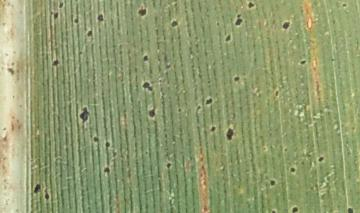tarspot: (77, 105, 93, 126), (223, 126, 237, 141), (146, 107, 159, 120), (140, 81, 155, 92), (32, 181, 43, 194), (202, 96, 216, 106), (244, 1, 258, 11), (286, 165, 300, 175), (233, 18, 245, 29), (42, 192, 53, 203), (281, 20, 292, 31), (137, 7, 149, 17), (223, 32, 233, 44), (169, 19, 181, 29), (102, 165, 112, 176), (51, 11, 61, 22), (50, 58, 62, 67), (85, 27, 94, 39), (289, 205, 302, 213), (268, 179, 278, 189), (91, 135, 101, 144), (96, 13, 105, 23), (344, 206, 356, 213), (142, 54, 151, 63), (165, 161, 174, 170), (317, 155, 326, 164), (208, 124, 217, 133), (103, 141, 113, 149), (56, 1, 66, 9), (72, 16, 82, 24), (232, 75, 242, 83), (340, 2, 350, 9), (298, 59, 307, 66), (270, 206, 278, 213), (215, 21, 222, 29), (274, 90, 280, 99), (235, 13, 244, 18), (177, 107, 184, 113)
